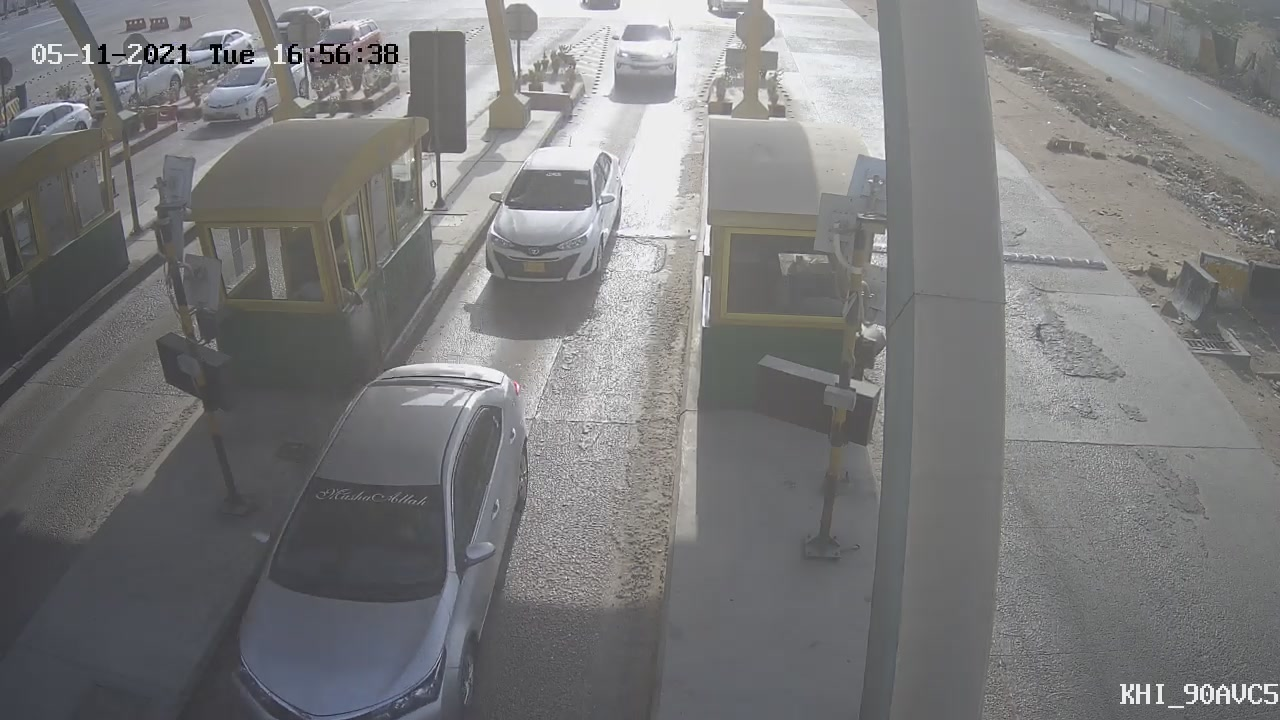F1: (460, 127, 638, 309)
